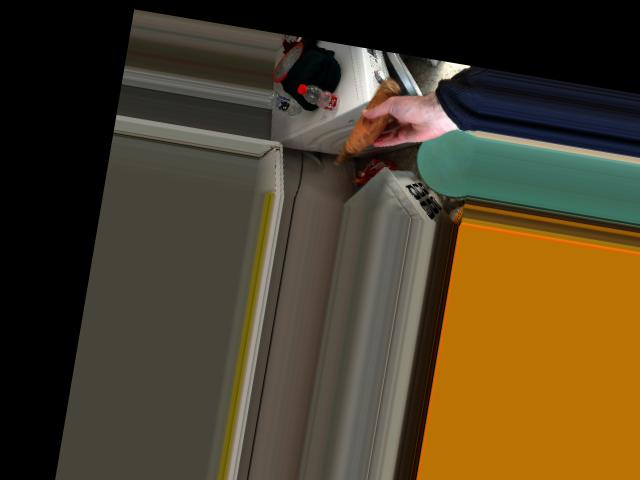sweet_potato: (343, 78, 400, 151)
